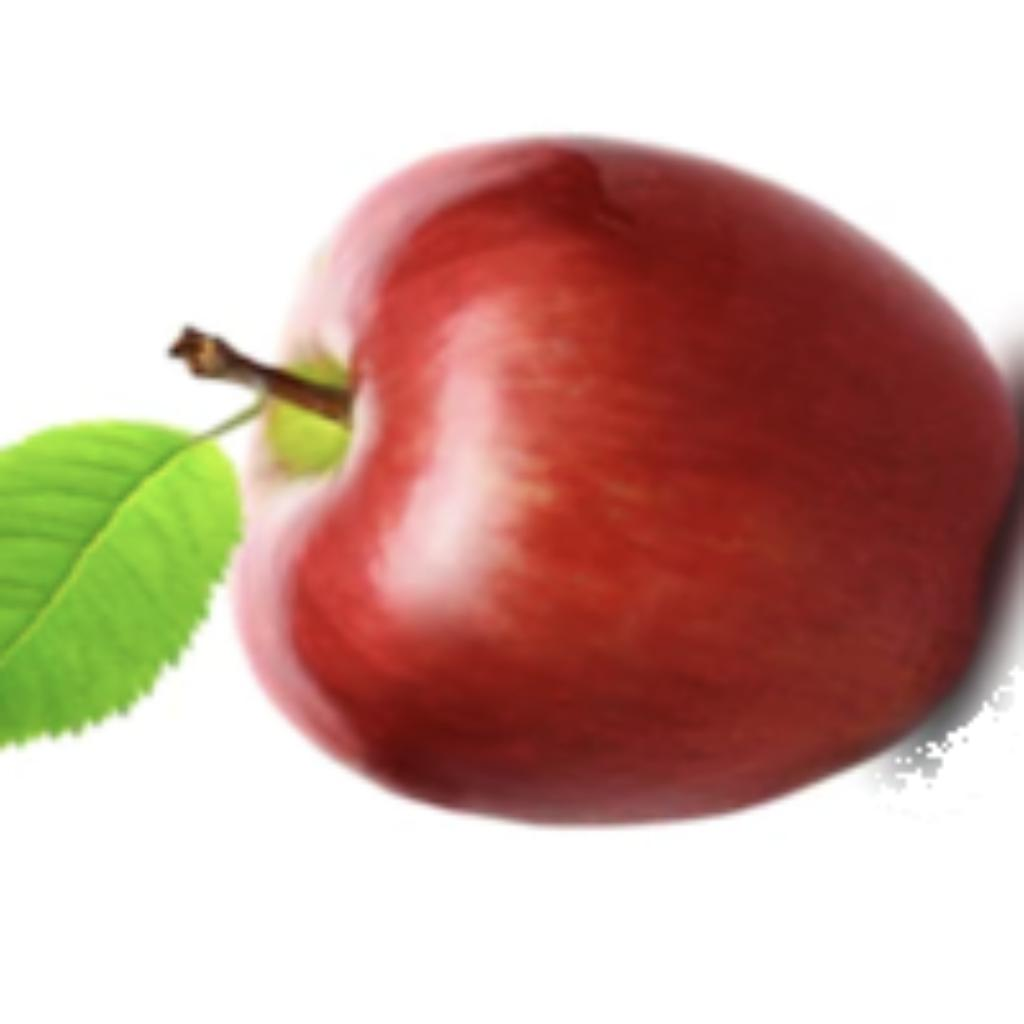apple: (0, 123, 1019, 835)
